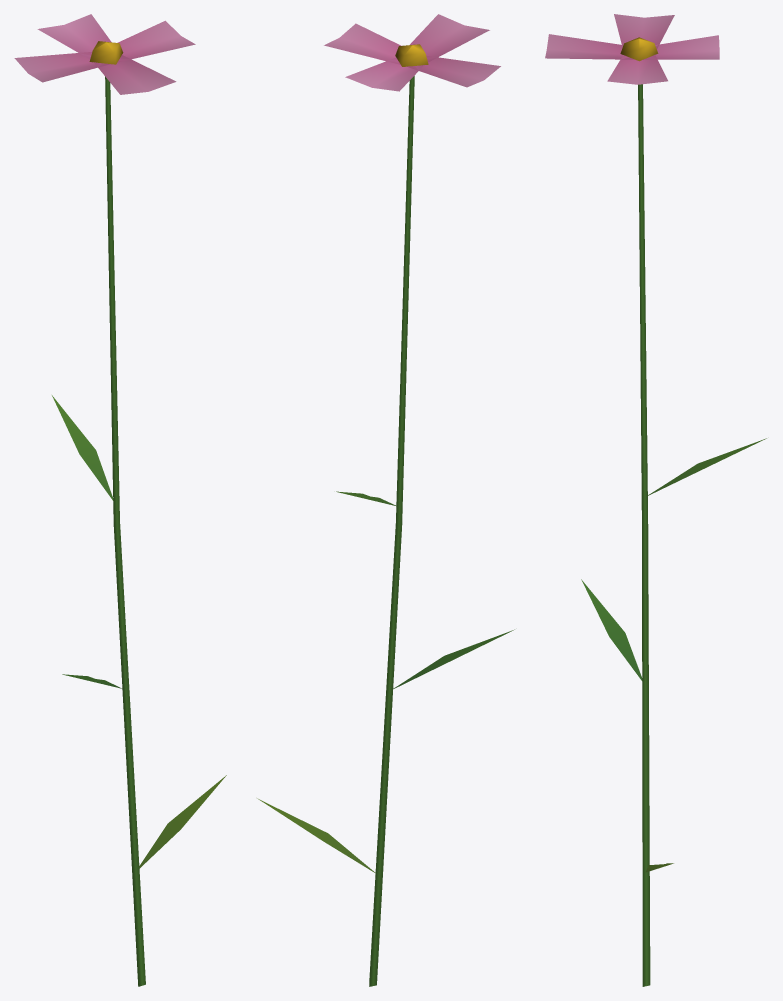
The model's file is flower-cosmos-a.lod2.glb.
The picture shows the model from 3 angles, left to right: view 1: azimuth 30°, elevation 25°; view 2: azimuth 150°, elevation 25°; view 3: azimuth 270°, elevation 25°; orthographic projection. The views are drawn at different scales.
Visible parts, largest first — view 1: flower-cosmos-a.lod2; view 2: flower-cosmos-a.lod2; view 3: flower-cosmos-a.lod2.
Part boxes in pixels (x1,y1,x2,y2): flower-cosmos-a.lod2: [14, 14, 226, 986]; flower-cosmos-a.lod2: [257, 14, 514, 986]; flower-cosmos-a.lod2: [545, 14, 766, 986].
Bounding box in the file's own units: 0.1346 × 0.5676 × 0.124.
